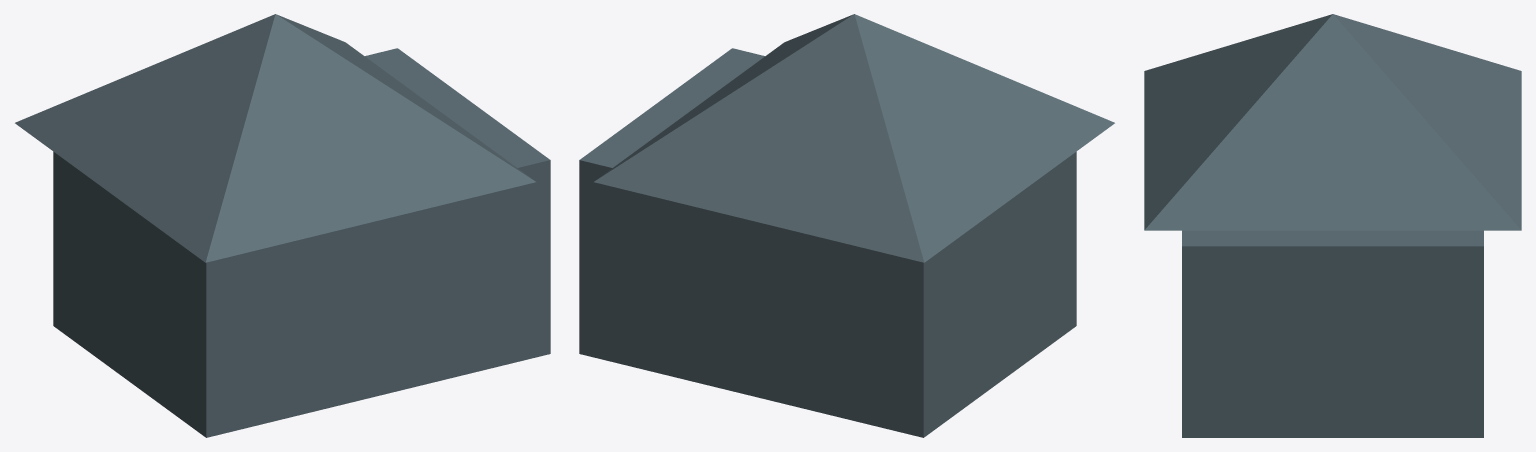
File: rock.obj
3 views of the same model, side by side, from view 1: azimuth 30°, elevation 25°; view 2: azimuth 150°, elevation 25°; view 3: azimuth 270°, elevation 25° (orthographic).
Size of the model in its own units: 1.38 by 1.2 by 1.25.
